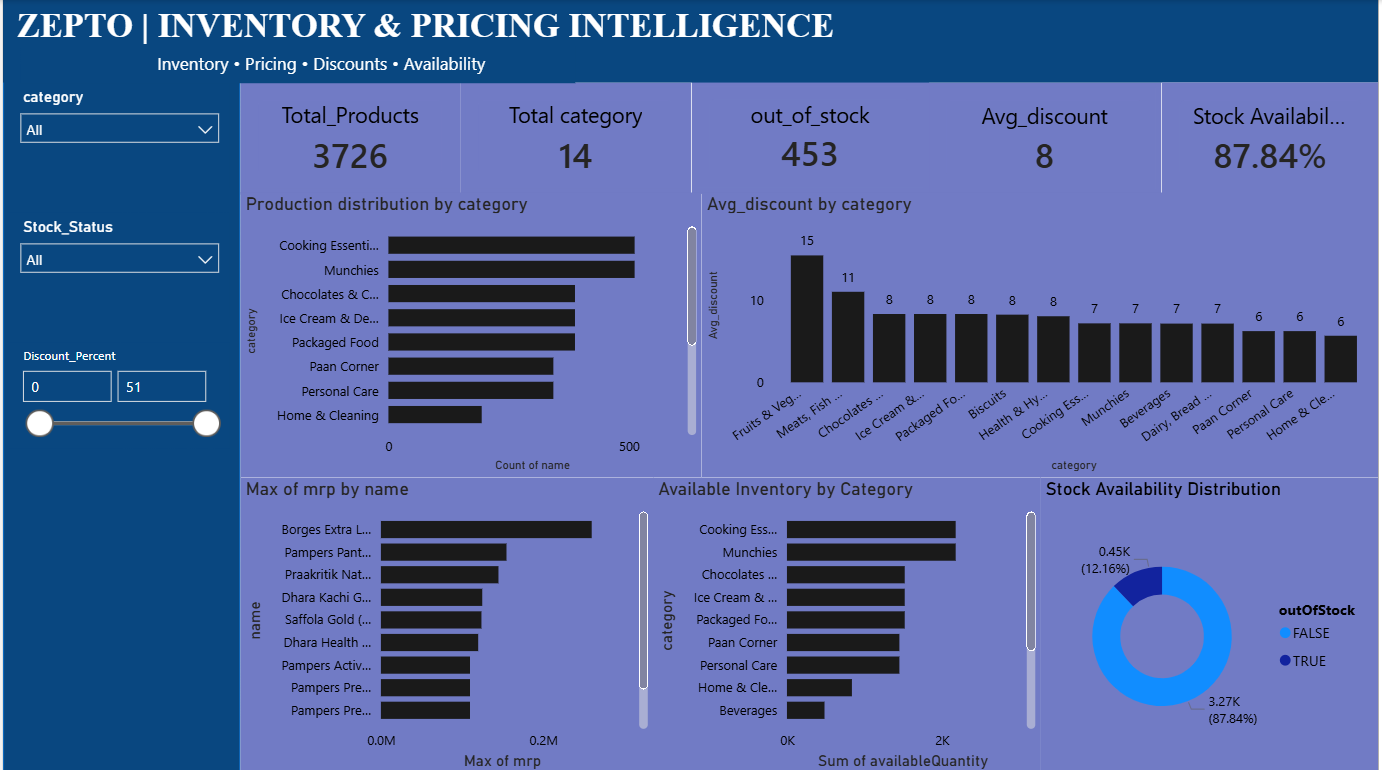

The dashboard page shown, as its layout file describes it:
{"tool":"powerbi","page":{"name":"Page 1","canvas":[1280,720],"ordinal":0},"visuals":[{"type":"shape","title":"sidebar_background","box":[0,62.2,220.7,658.4],"z":0},{"type":"cardVisual","fields":{"Data":["zepto_analytics zepto_products.total_products"]},"box":[220.7,76.8,204.8,103.6],"z":1000},{"type":"cardVisual","fields":{"Data":["zepto_analytics zepto_products.Total category"]},"box":[425.5,76.8,214.6,103.6],"z":2000},{"type":"cardVisual","fields":{"Data":["zepto_analytics zepto_products.Average_discount"]},"box":[860.8,76.8,217,104.9],"z":3000},{"type":"cardVisual","fields":{"Data":["zepto_analytics zepto_products.out_of_stock"]},"box":[640.1,75.6,220.7,104.9],"z":4000},{"type":"clusteredBarChart","title":"Production distribution by category","fields":{"Category":["zepto_analytics zepto_products.category"],"Y":["CountNonNull(zepto_analytics zepto_products.name)"]},"box":[220.7,179.2,429.2,264.6],"z":5000},{"type":"clusteredColumnChart","fields":{"Y":["zepto_analytics zepto_products.Average_discount"],"Category":["zepto_analytics zepto_products.category"]},"box":[649.9,179.2,630.4,264.6],"z":6000},{"type":"donutChart","title":"Stock Availability Distribution","fields":{"Y":["CountNonNull(zepto_analytics zepto_products.name)"],"Category":["zepto_analytics zepto_products.outOfStock"]},"box":[965.7,443.8,314.6,276.8],"z":7000},{"type":"clusteredBarChart","fields":{"Category":["zepto_analytics zepto_products.name"],"Y":["Max(zepto_analytics zepto_products.mrp)"]},"box":[220.7,443.8,384.1,276.8],"z":8000},{"type":"clusteredBarChart","title":"Available Inventory by Category","fields":{"Category":["zepto_analytics zepto_products.category"],"Y":["Sum(zepto_analytics zepto_products.availableQuantity)"]},"box":[604.8,443.8,360.9,276.8],"z":9000},{"type":"slicer","title":"Category","fields":{"Values":["zepto_analytics zepto_products.category"]},"box":[6.1,76.8,204.8,98.8],"z":10000},{"type":"slicer","title":"DiscountPercent","fields":{"Values":["zepto_analytics zepto_products.discountPercent"]},"box":[6.1,318.2,204.8,98.8],"z":11000},{"type":"textbox","box":[0,0,1280.2,76.8],"z":12000},{"type":"slicer","title":"Category","fields":{"Values":["zepto_analytics zepto_products.availableQuantity"]},"box":[6.1,197.5,204.8,98.8],"z":13000},{"type":"textbox","box":[15.9,42.7,515.8,34.1],"z":14000},{"type":"cardVisual","fields":{"Data":["zepto_analytics zepto_products.Stock Availability %"]},"box":[1077.8,76.8,202.4,104.9],"z":15000}]}

Visuals, with their boxes in screenshot pixels (x1, y1, x2, y2), scaled from the page's 1280x720 canvas onto the 1382x770 screenshot:
"sidebar_background" shape: box=[0, 67, 238, 769]
cardVisual - zepto_analytics zepto_products.total_products: box=[238, 82, 459, 193]
cardVisual - zepto_analytics zepto_products.Total category: box=[459, 82, 691, 193]
cardVisual - zepto_analytics zepto_products.Average_discount: box=[929, 82, 1164, 194]
cardVisual - zepto_analytics zepto_products.out_of_stock: box=[691, 81, 929, 193]
"Production distribution by category" clusteredBarChart: box=[238, 192, 702, 475]
clusteredColumnChart - zepto_analytics zepto_products.Average_discount x zepto_analytics zepto_products.category: box=[702, 192, 1381, 475]
"Stock Availability Distribution" donutChart: box=[1043, 475, 1381, 769]
clusteredBarChart - zepto_analytics zepto_products.name x Max(zepto_analytics zepto_products.mrp): box=[238, 475, 653, 769]
"Available Inventory by Category" clusteredBarChart: box=[653, 475, 1043, 769]
"Category" slicer: box=[7, 82, 228, 188]
"DiscountPercent" slicer: box=[7, 340, 228, 446]
textbox: box=[0, 0, 1381, 82]
"Category" slicer: box=[7, 211, 228, 317]
textbox: box=[17, 46, 574, 82]
cardVisual - zepto_analytics zepto_products.Stock Availability %: box=[1164, 82, 1381, 194]
